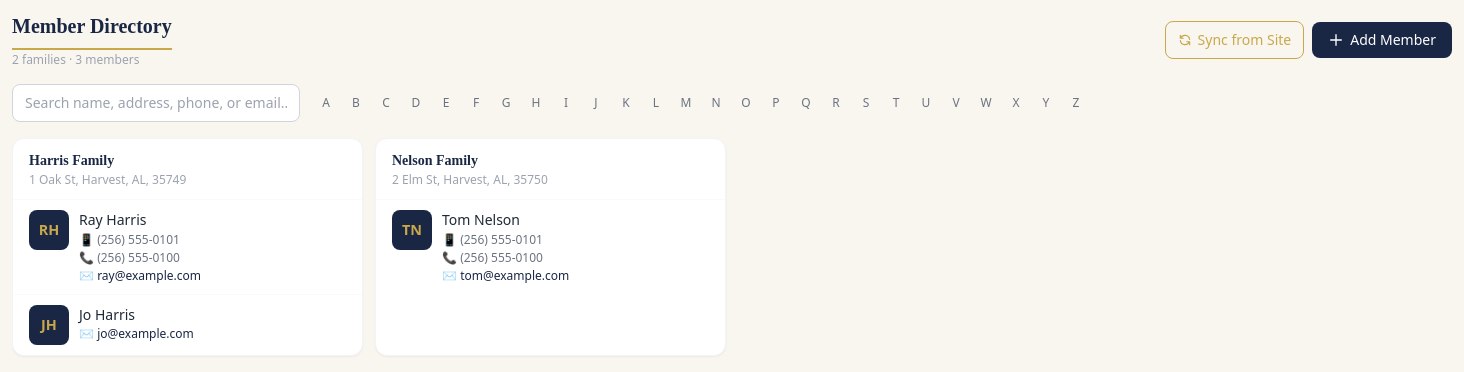
Test: DirectoryView — finding somebody › a letter and a search do not fight each other
expect the heading "Harris Family" is shown: met, box [29,153,114,168]
Click the button "N" at (716,103), box [702,89,730,117]
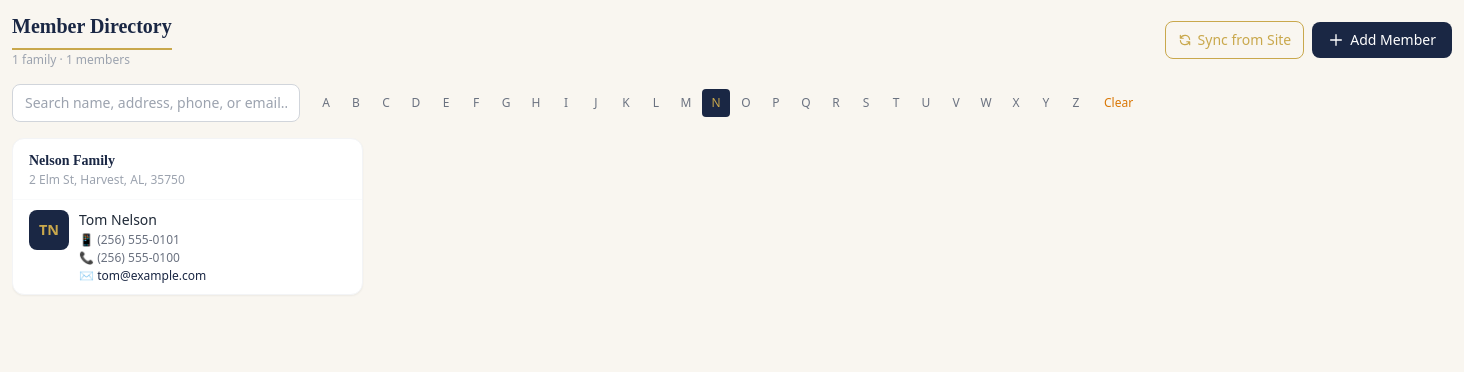
expect the heading "Harris Family" is gone: met
# Typing clears the letter rather than narrowing within it
Type "Harris" into the field with placeholder "Search name, address, phone, or email…" at (156,103), box [12,84,300,122]
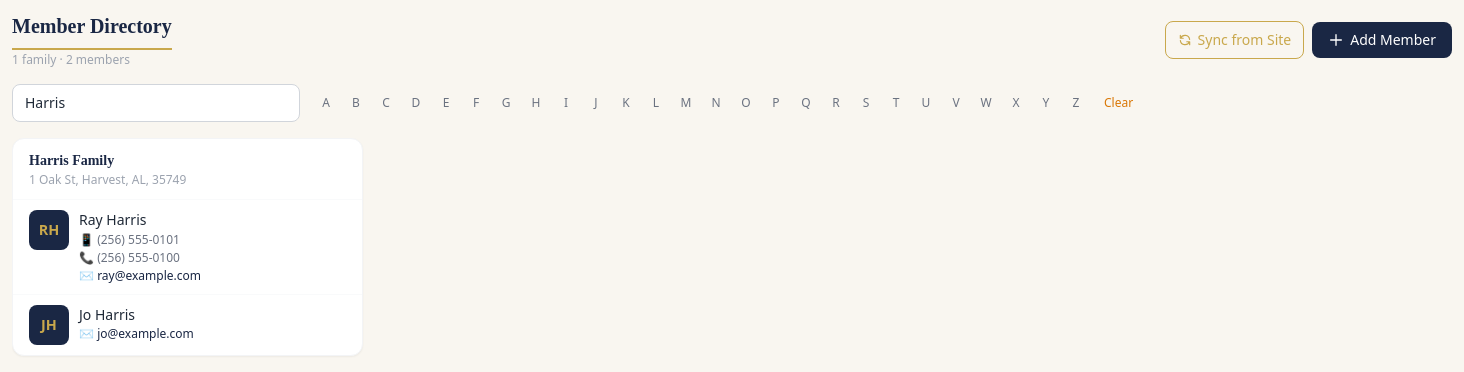
expect the heading "Harris Family" is shown: met, box [29,153,114,168]
